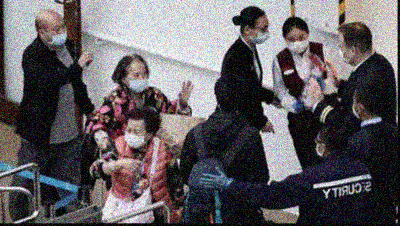with_mask: (123, 123, 147, 150), (284, 32, 308, 54), (128, 68, 149, 93), (250, 22, 270, 46), (47, 21, 67, 45), (336, 41, 351, 66), (350, 95, 361, 118), (313, 136, 322, 157)
